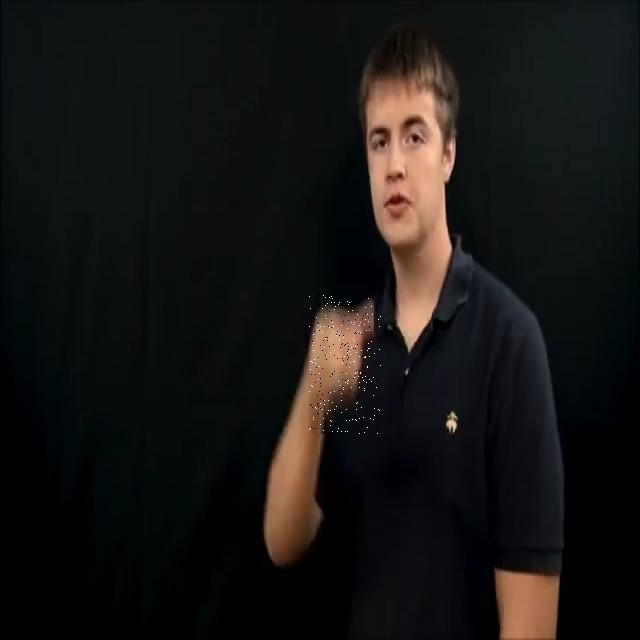drink: (309, 294, 382, 434)
